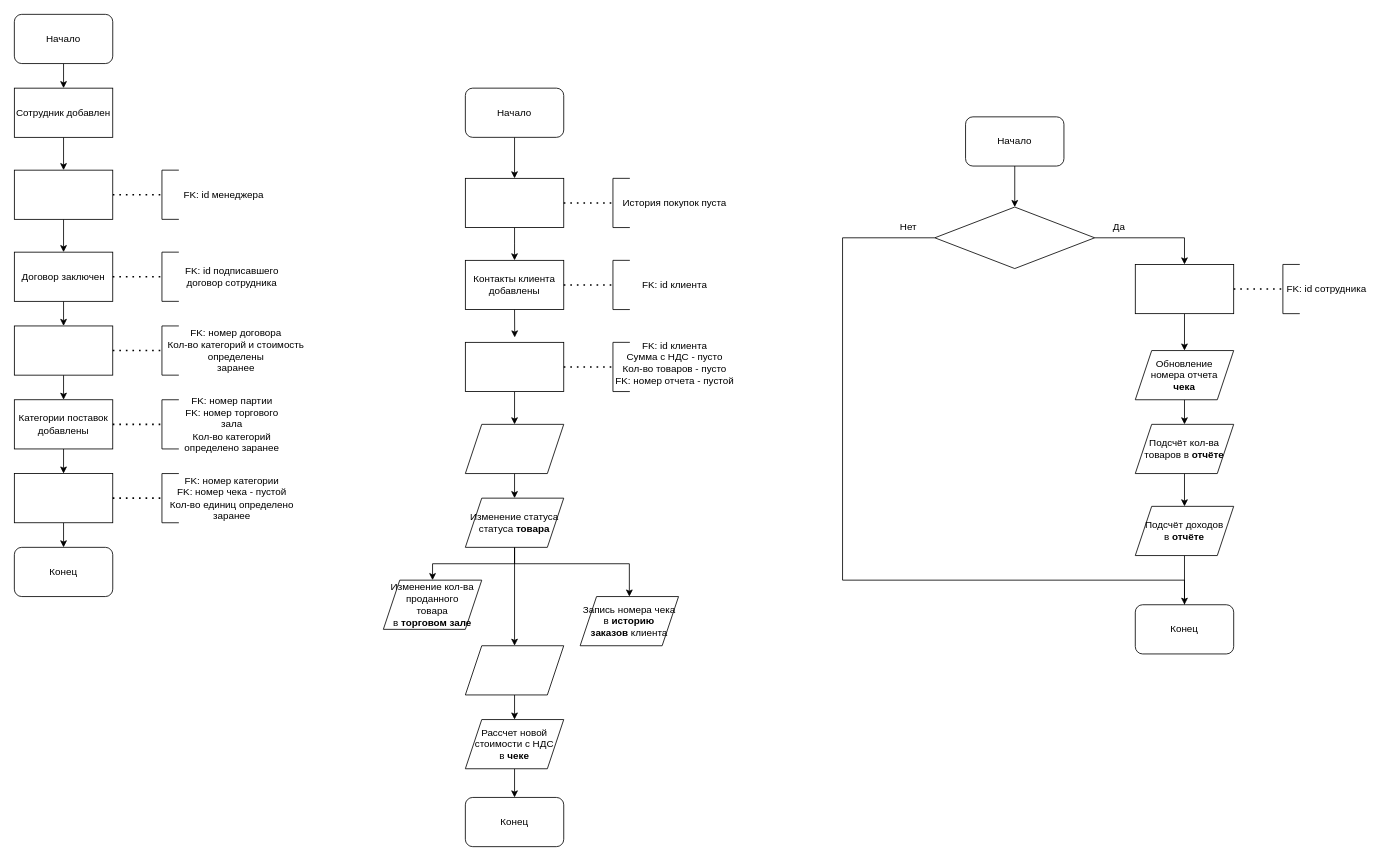
Some shapes in this 1390 by 861 pixel diagram are drawn without their labels. The shapes that lost their labels are listed below. From the top down, each one's box as (x1, y1, x2, y2) in pixels, then its label:
(14, 169, 113, 219): Торговый зал добавлен
(465, 178, 564, 228): Клиент добавлен
(934, 206, 1095, 269): Прошло ли 3 месяца с даты последнего отчета?
(1134, 264, 1234, 314): Отчет создан
(14, 325, 113, 375): Поставка добавлена
(465, 342, 564, 392): Чек добавлен
(465, 424, 564, 474): Запись номера чека в покупаемый товар
(14, 473, 113, 523): Видеотехника добавлена
(465, 645, 564, 695): Рассчет кол-ва товара в чеке
